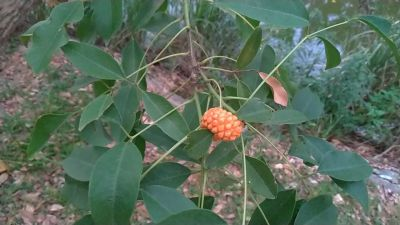eggs: (200, 105, 241, 141)
